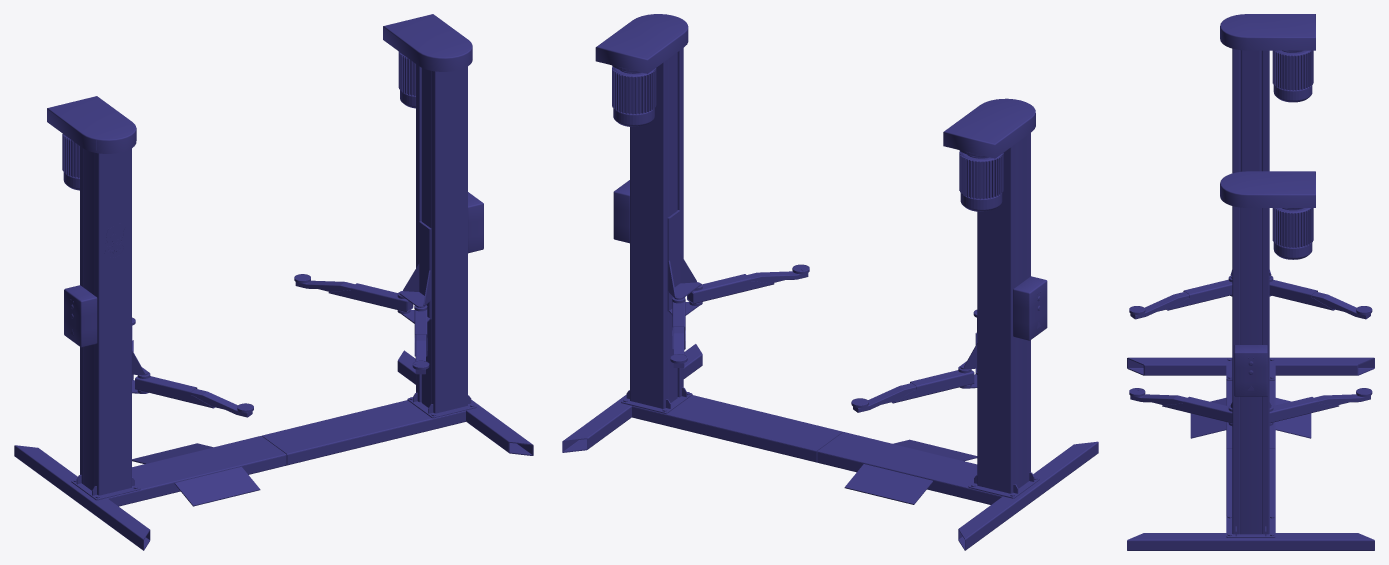
The model's file is podyemnik_21.fbx.
3 renders of one model, left to right at view 1: azimuth 30°, elevation 25°; view 2: azimuth 150°, elevation 25°; view 3: azimuth 270°, elevation 25°, orthographic. The views are drawn at different scales.
Visible parts, largest first — view 1: Box, up; view 2: Box, up; view 3: Box, up.
Part boxes in pixels (left/top/right/bottom): Box: left=14, top=14, right=533, bottom=550; up: left=132, top=221, right=431, bottom=417; Box: left=562, top=14, right=1098, bottom=550; up: left=667, top=210, right=977, bottom=412; Box: left=1127, top=14, right=1374, bottom=550; up: left=1129, top=270, right=1372, bottom=425.
Size of the model in its own units: 184 by 161 by 102.
